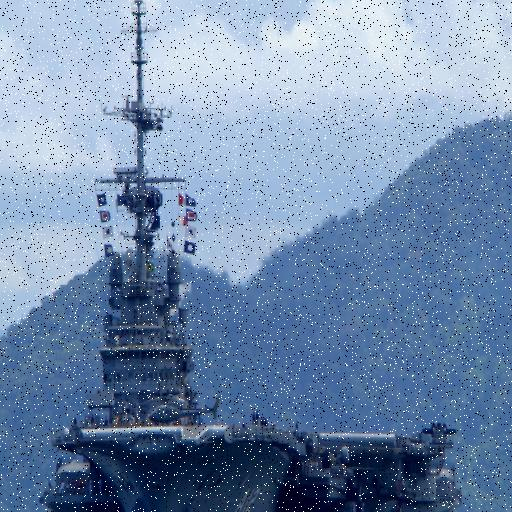Portanaves: (37, 1, 468, 512)
